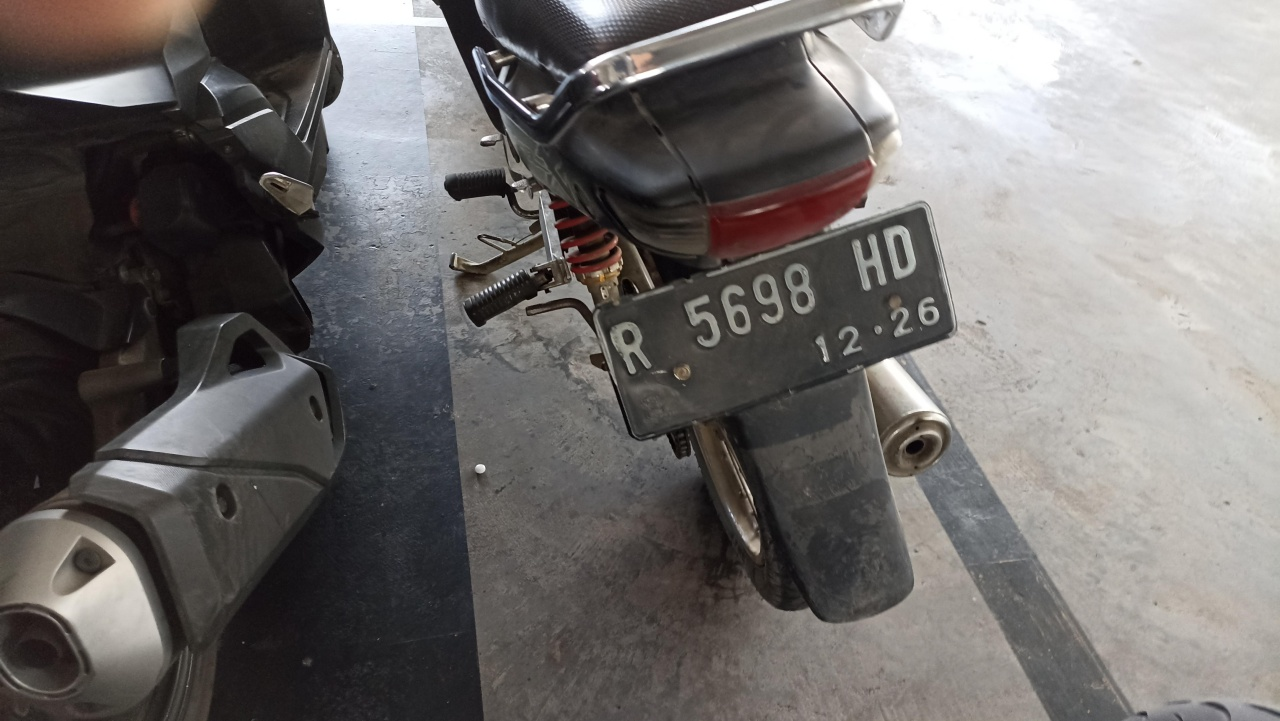plate: (592, 202, 961, 442)
